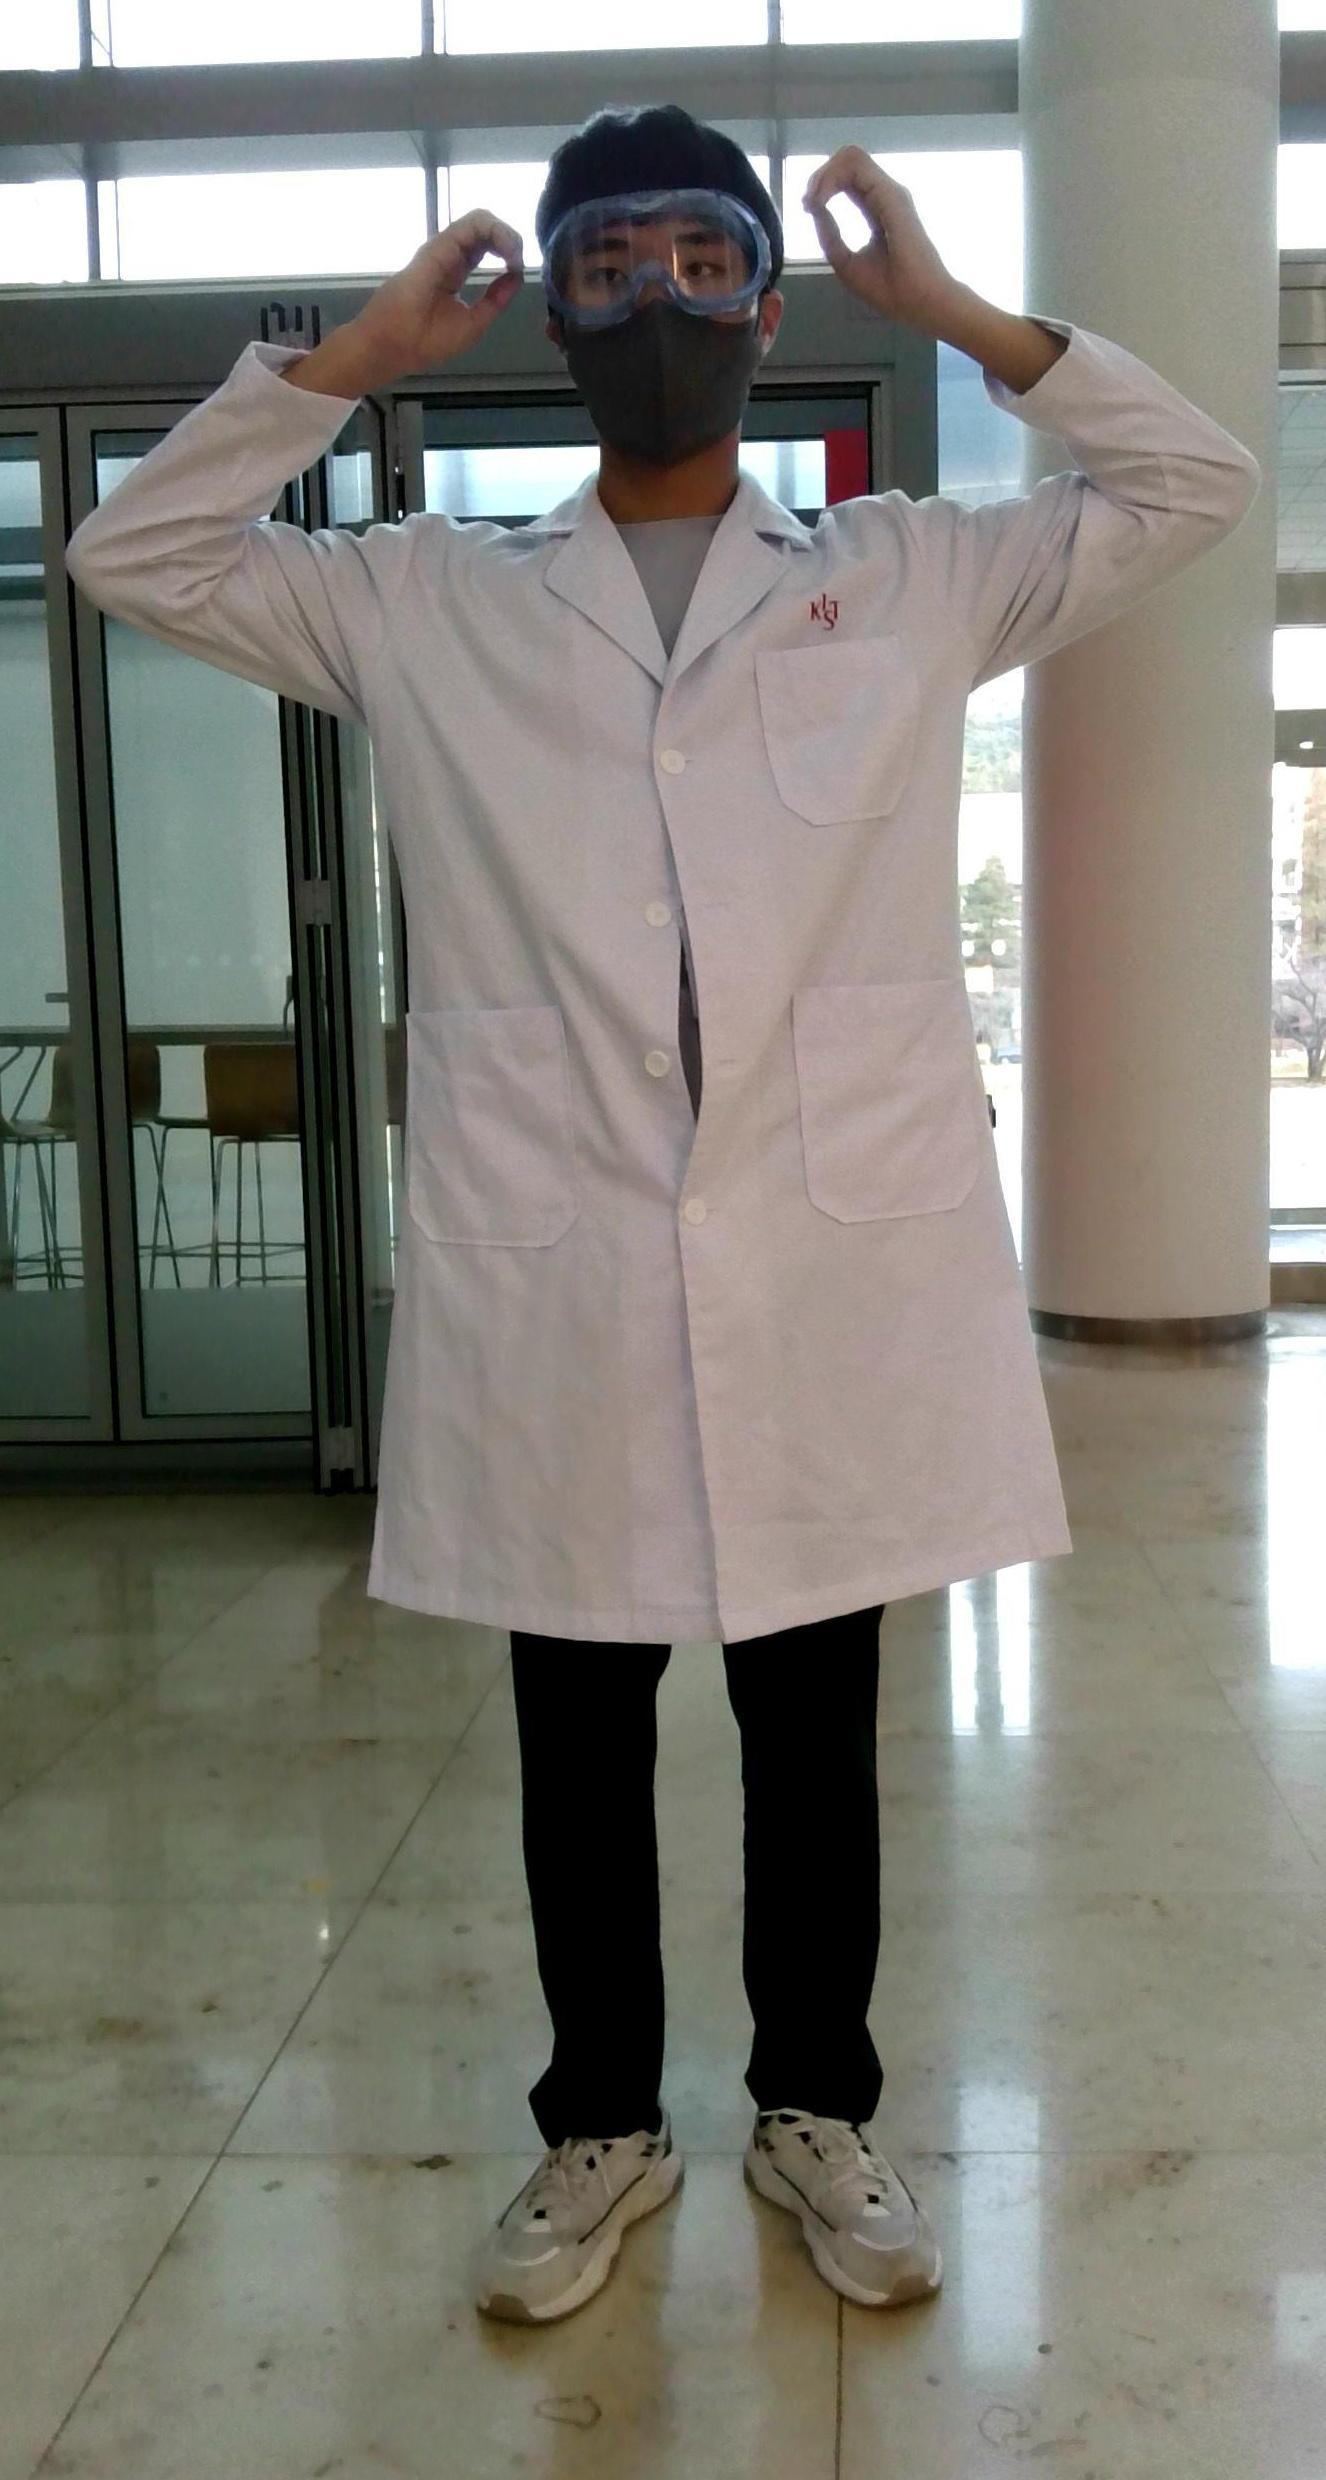lab_coat: (327, 512, 1026, 1606)
